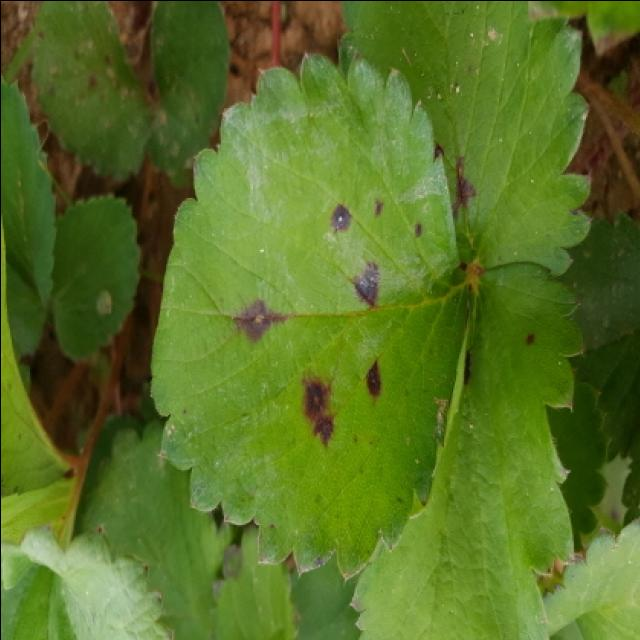Leaf Spot: (148, 51, 474, 581), (348, 260, 586, 640), (336, 2, 592, 277), (30, 2, 160, 183)
